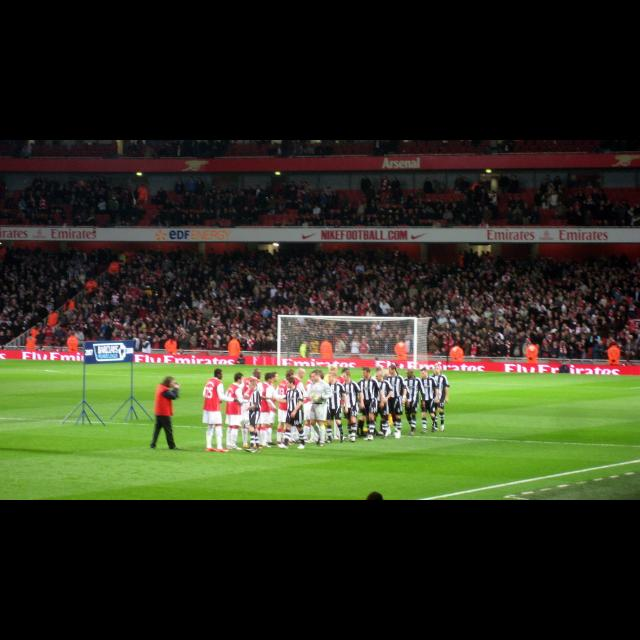Football: (308, 390, 322, 404)
